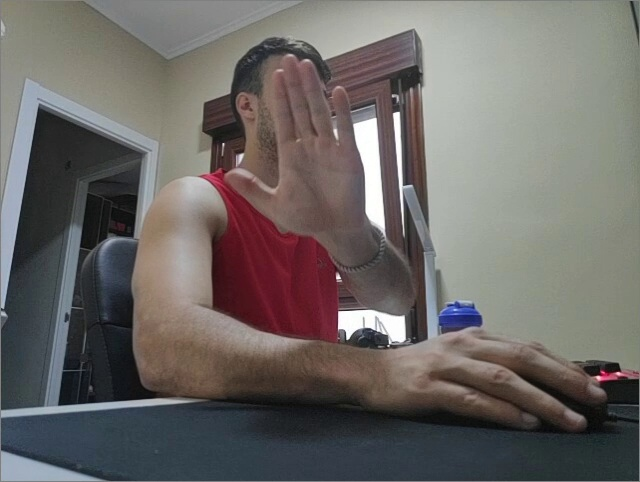Palm: (221, 50, 355, 266)
